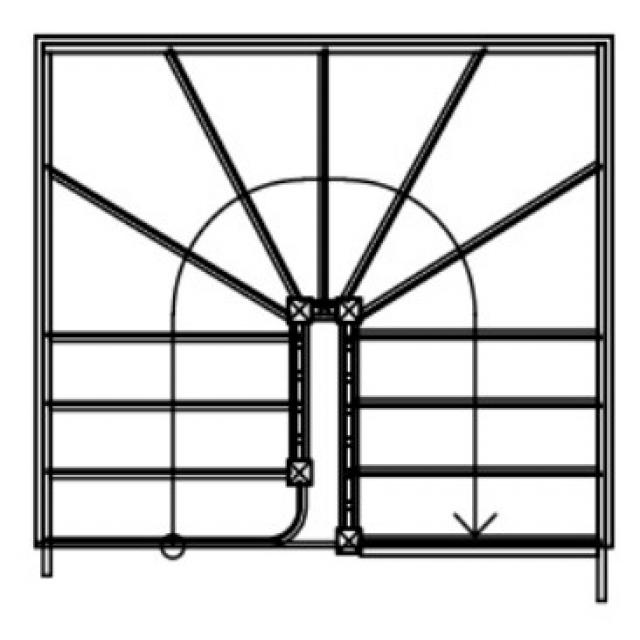stair: (31, 29, 612, 600)
